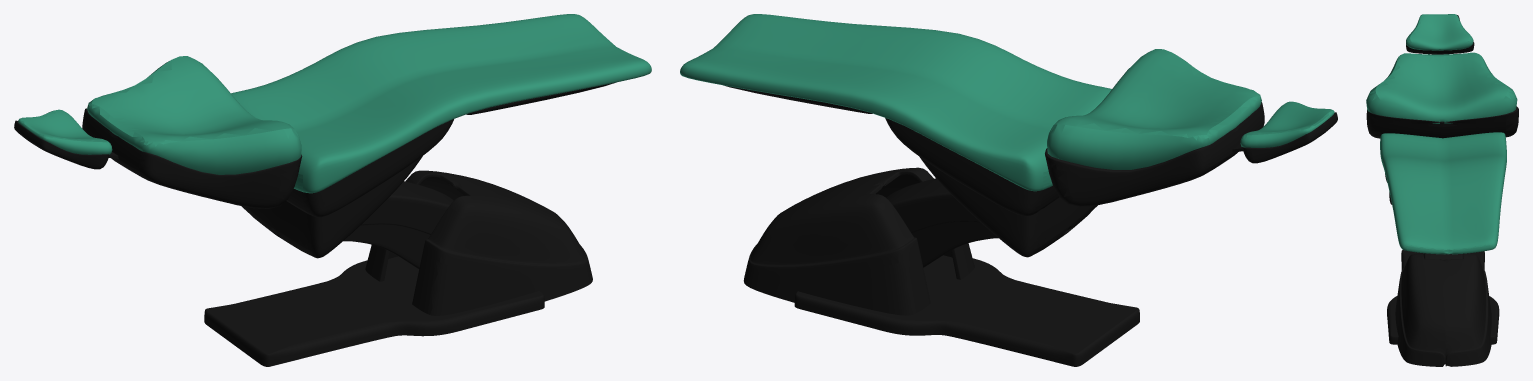
Rendered from Dentist Chair.FBX.
3 views of the same model, side by side, from view 1: azimuth 30°, elevation 25°; view 2: azimuth 150°, elevation 25°; view 3: azimuth 270°, elevation 25° (orthographic). The views are drawn at different scales.
Visible parts, largest first — view 1: Box095, Box093, Line005, Box100, Box099, Box097, Box094, Box096, Box102, Box101, Box098; view 2: Box095, Box093, Line005, Box100, Box099, Box094, Box097, Box096, Box102, Box101; view 3: Box095, Box093, Box100, Box099, Box102, Line005, Box101, Box094.
Part boxes in pixels (x1,y1,x2,y2): Box095: [231, 14, 651, 193]; Box093: [365, 170, 592, 315]; Line005: [204, 256, 544, 366]; Box100: [87, 56, 301, 174]; Box099: [82, 108, 302, 208]; Box097: [241, 156, 422, 258]; Box094: [343, 181, 453, 268]; Box096: [286, 119, 453, 217]; Box102: [18, 109, 112, 154]; Box101: [14, 120, 109, 169]; Box098: [466, 82, 616, 114]; Box095: [680, 14, 1111, 191]; Box093: [743, 167, 974, 315]; Line005: [794, 255, 1139, 366]; Box100: [1047, 49, 1261, 169]; Box099: [1045, 102, 1264, 206]; Box094: [886, 178, 998, 267]; Box097: [919, 156, 1097, 257]; Box096: [885, 118, 1059, 216]; Box102: [1240, 101, 1334, 147]; Box101: [1242, 112, 1337, 163]; Box095: [1380, 132, 1506, 254]; Box093: [1395, 253, 1491, 366]; Box100: [1366, 52, 1517, 123]; Box099: [1366, 106, 1518, 138]; Box102: [1406, 14, 1473, 50]; Line005: [1387, 250, 1499, 344]; Box101: [1406, 15, 1474, 54]; Box094: [1423, 253, 1463, 259].
Bounding box in the file's own units: 12.29 × 5.27 × 4.12.
